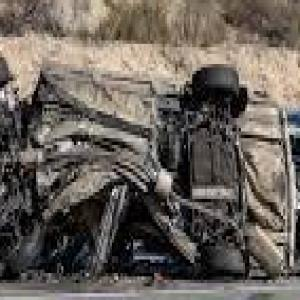fatal: (0, 40, 300, 296)
